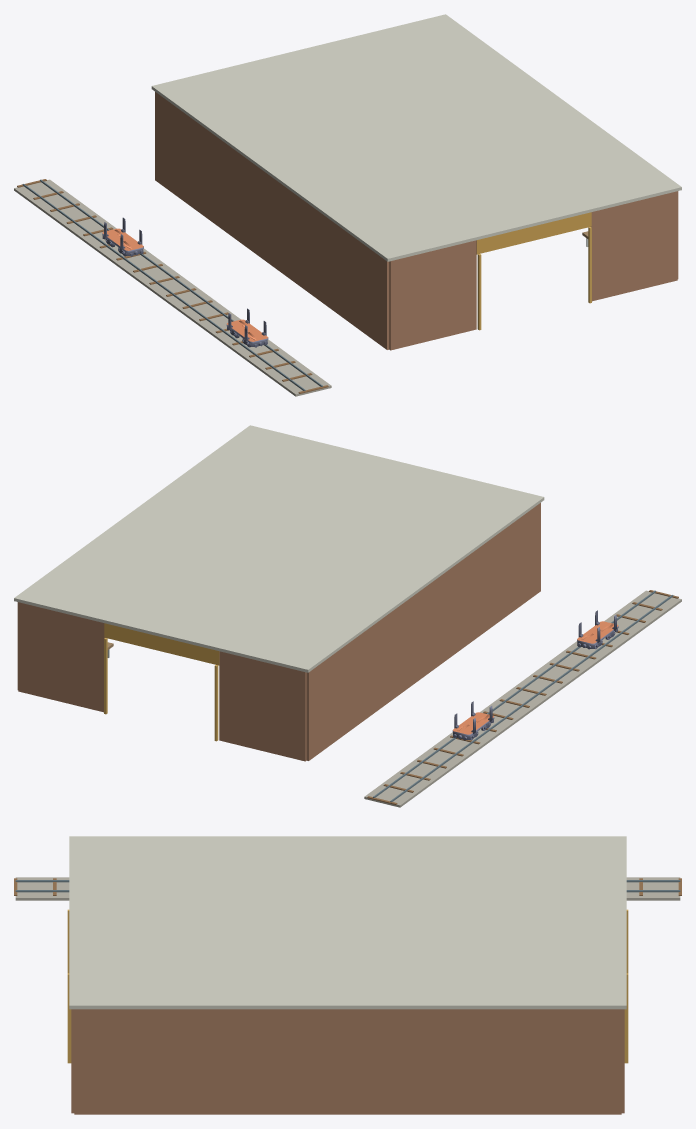
Rendered from railway-2-0.glb.
3 renders of one model, top to bottom at view 1: azimuth 30°, elevation 25°; view 2: azimuth 150°, elevation 25°; view 3: azimuth 270°, elevation 25°, orthographic. The views are drawn at different scales.
Visible parts, largest first — view 1: railway-2-0; view 2: railway-2-0; view 3: railway-2-0.
Boxes of the visible parts, x1=… form: railway-2-0: x1=14, y1=14, x2=681, y2=396; railway-2-0: x1=14, y1=425, x2=681, y2=807; railway-2-0: x1=14, y1=836, x2=681, y2=1114.
Bounding box in the file's own units: 57 × 12.4 × 68.35.
16 materials, 6 textured.
